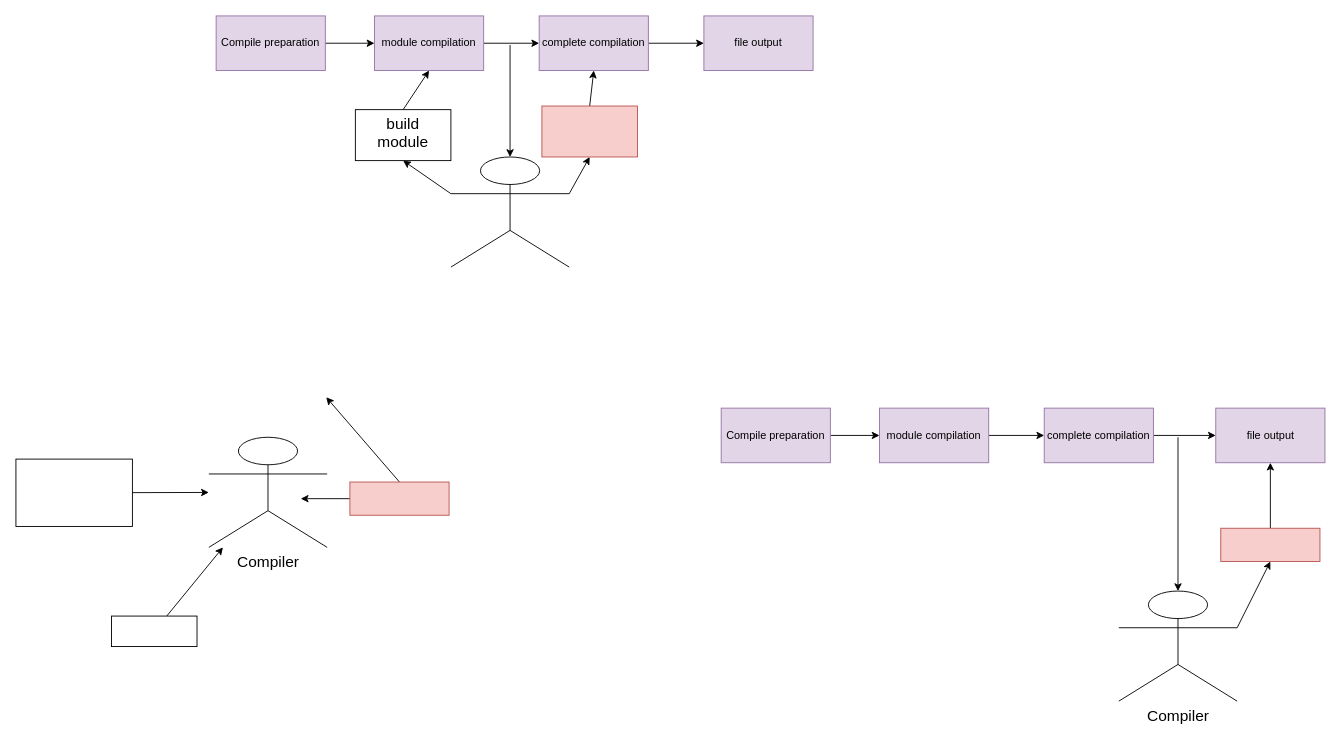
Image size: 1341x742. Some labels were removed from this diagram. Each missing label, with the centre of its shape:
build chunk: [589,131]
Compilation: [509,211]
emitAssets: [1270,544]
hooks: [154,631]
Merged Final Options: [73,492]
RUN: [399,498]
